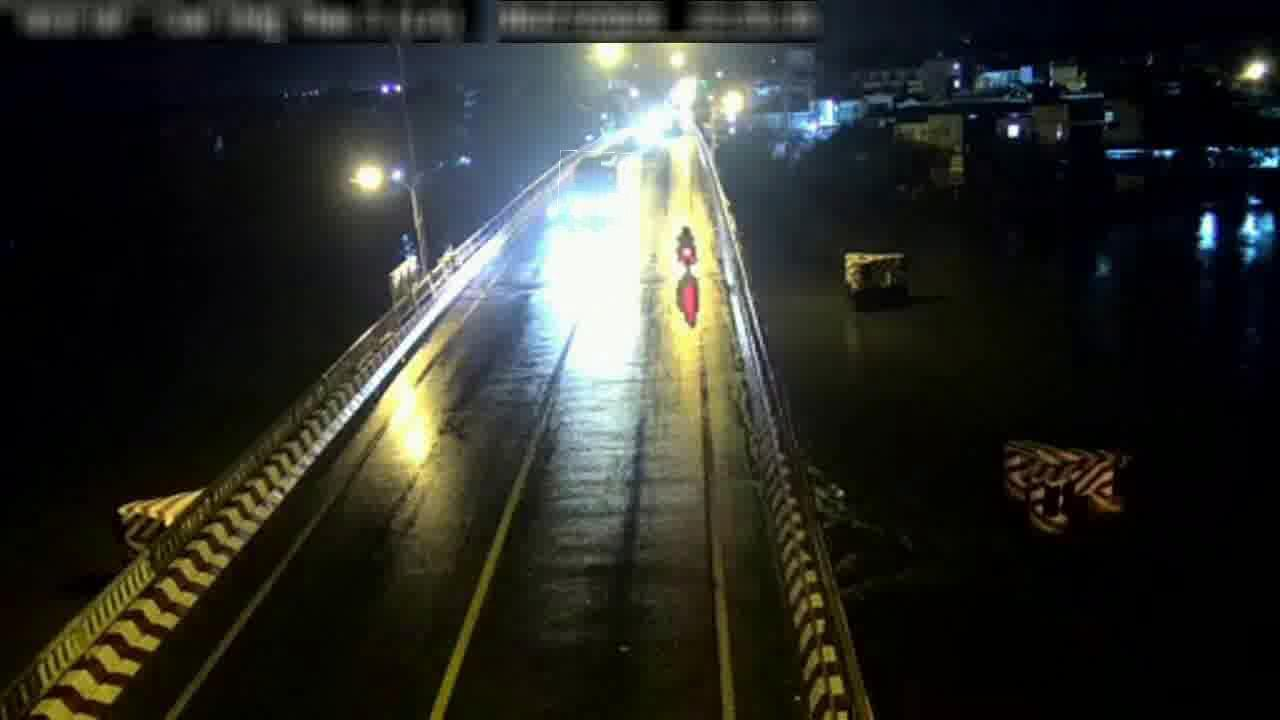container: (558, 151, 632, 230)
motorbike: (674, 225, 701, 275)
